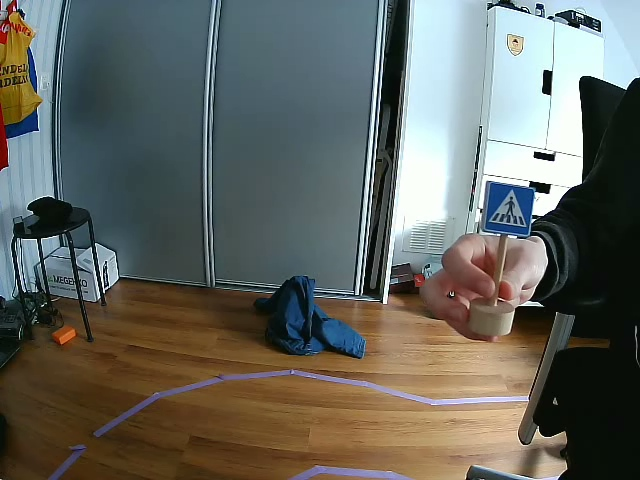zebrapad: (480, 180, 534, 237)
